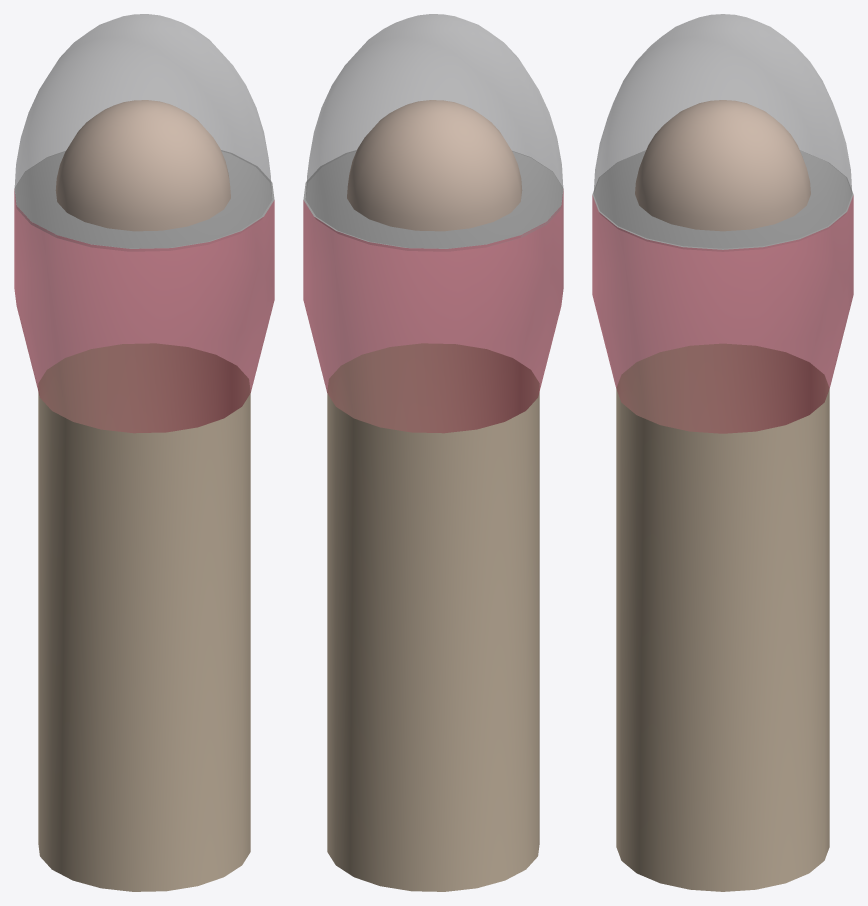
Rendered from concealer.fbx.
The picture shows the model from 3 angles, left to right: view 1: azimuth 30°, elevation 25°; view 2: azimuth 150°, elevation 25°; view 3: azimuth 270°, elevation 25°; orthographic projection.
Parts seen in each view (by area): view 1: pSphere7; view 2: pSphere7; view 3: pSphere7.
Boxes of the visible parts, bbox=[...] form: pSphere7: bbox=[14, 14, 274, 891]; pSphere7: bbox=[303, 14, 563, 891]; pSphere7: bbox=[592, 14, 853, 891].
Bounding box in the file's own units: 0.5154 × 1.79 × 0.5151.
